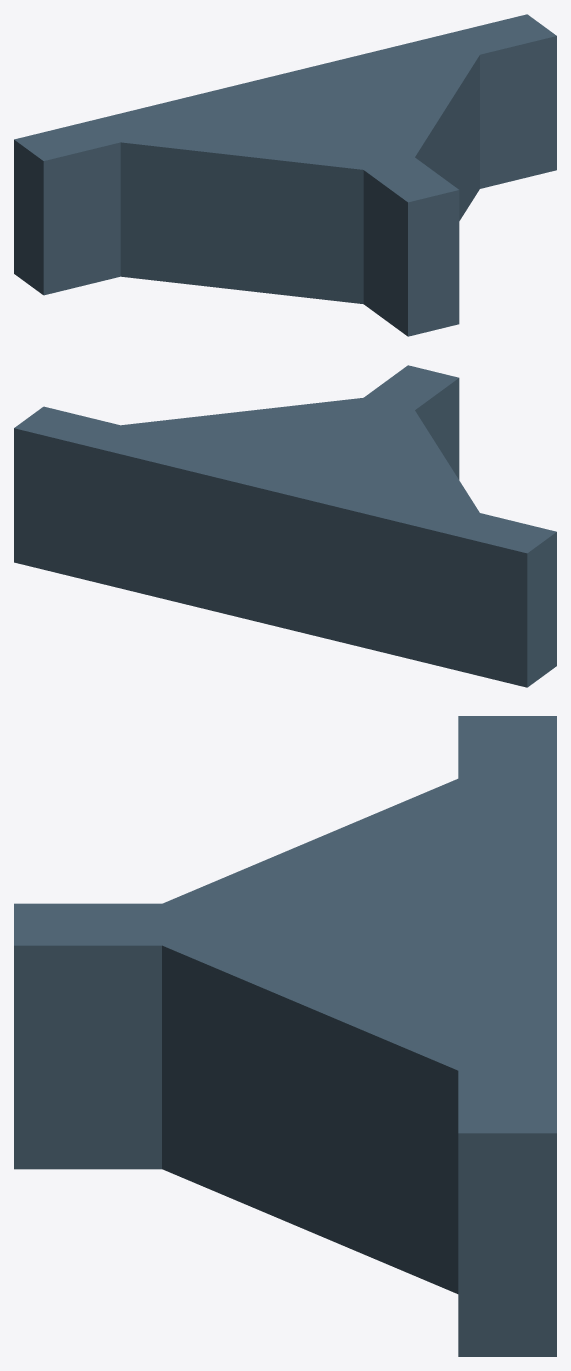
The model's file is W1_WallCorner_Angular1C_Top.fbx.
3 renders of one model, top to bottom at view 1: azimuth 30°, elevation 25°; view 2: azimuth 150°, elevation 25°; view 3: azimuth 270°, elevation 25°, orthographic. The views are drawn at different scales.
Parts seen in each view (by area): view 1: W1_WallCorner_Angular1C_Top.001; view 2: W1_WallCorner_Angular1C_Top.001; view 3: W1_WallCorner_Angular1C_Top.001.
Boxes of the visible parts, left/top/right/bottom form: W1_WallCorner_Angular1C_Top.001: left=14, top=14, right=556, bottom=336; W1_WallCorner_Angular1C_Top.001: left=14, top=365, right=556, bottom=687; W1_WallCorner_Angular1C_Top.001: left=14, top=716, right=556, bottom=1356.
Size of the model in its own units: 2 by 0.5 by 1.1.
